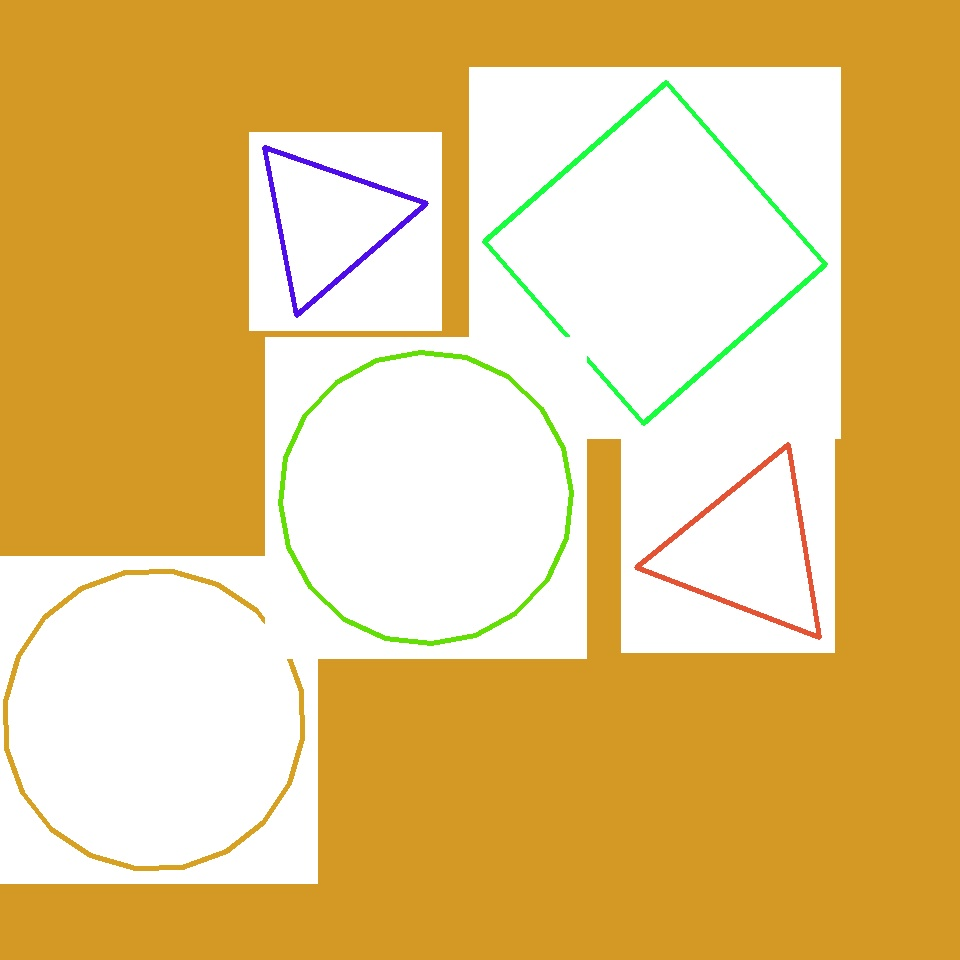circle: (523, 598, 833, 902), (656, 453, 840, 646), (248, 138, 410, 306)
square: (484, 82, 826, 424), (576, 314, 812, 552)
triangle: (22, 426, 356, 760), (6, 572, 302, 868), (280, 353, 571, 644)
